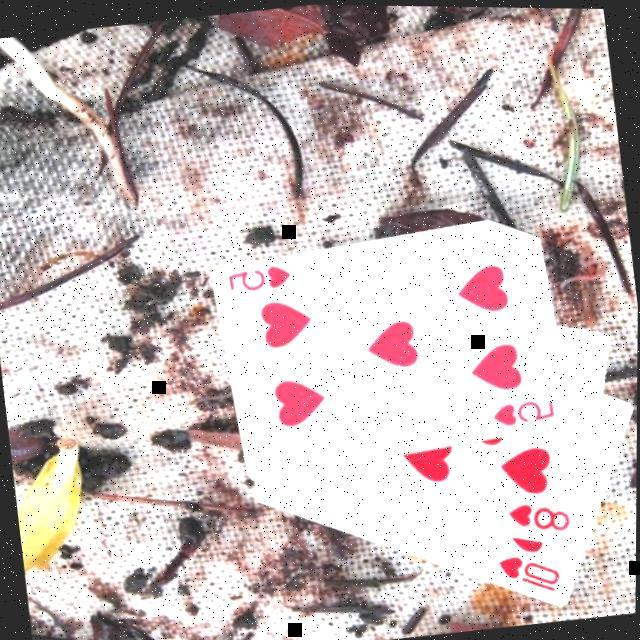10H: (494, 543, 565, 599)
5H: (223, 257, 295, 296), (487, 391, 558, 428)
8H: (503, 491, 574, 538)
